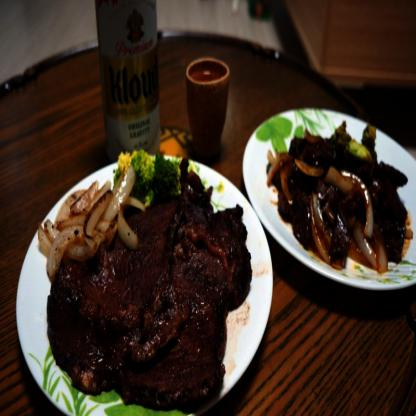Carne: (146, 186, 244, 403), (49, 229, 170, 373)
